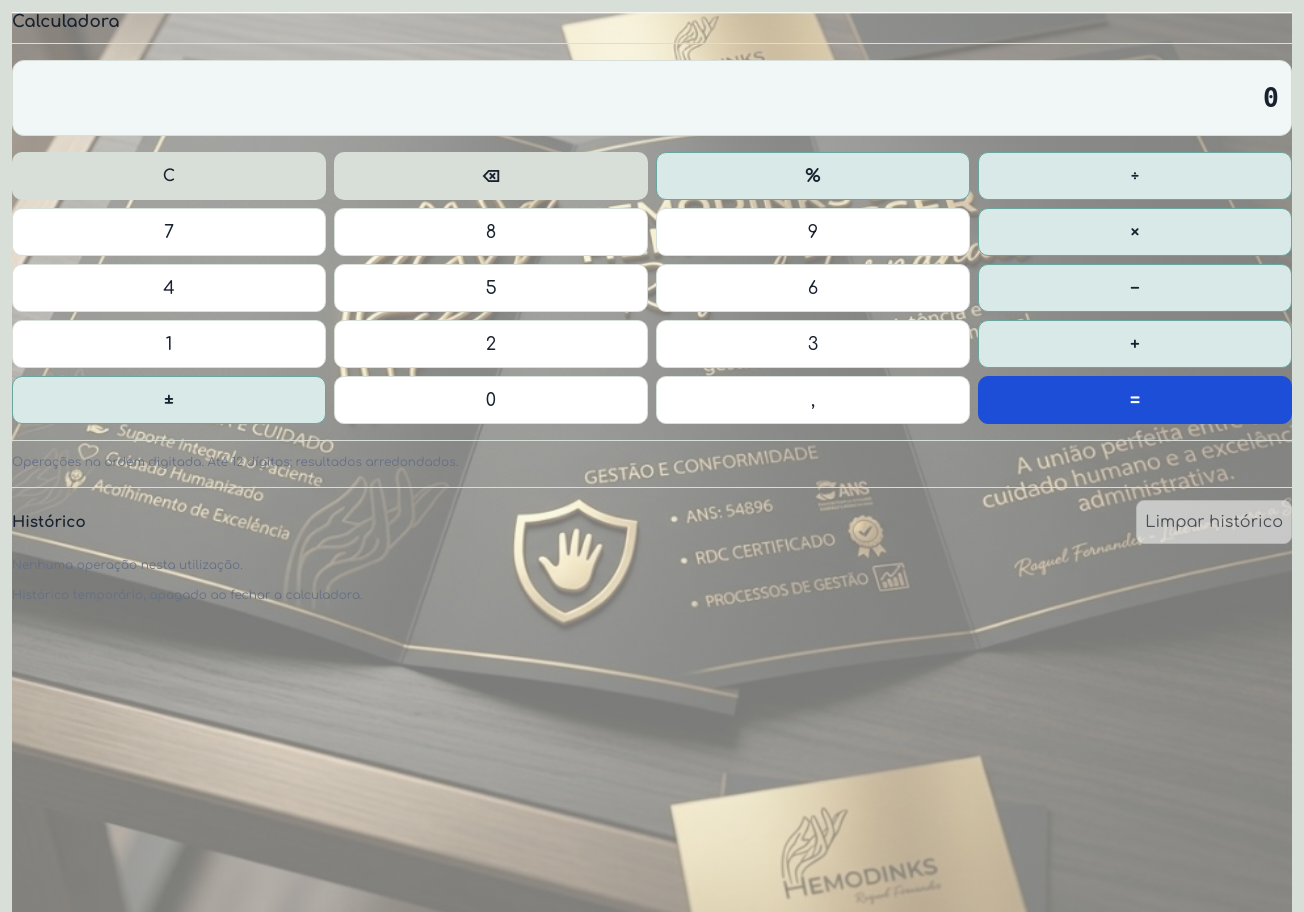
Scenario: painel da calculadora › calcula porcentagem por botão e teclado, sem repetir a conversão
Click the button named "Limpar" at (169, 176), box [12,152,326,200]
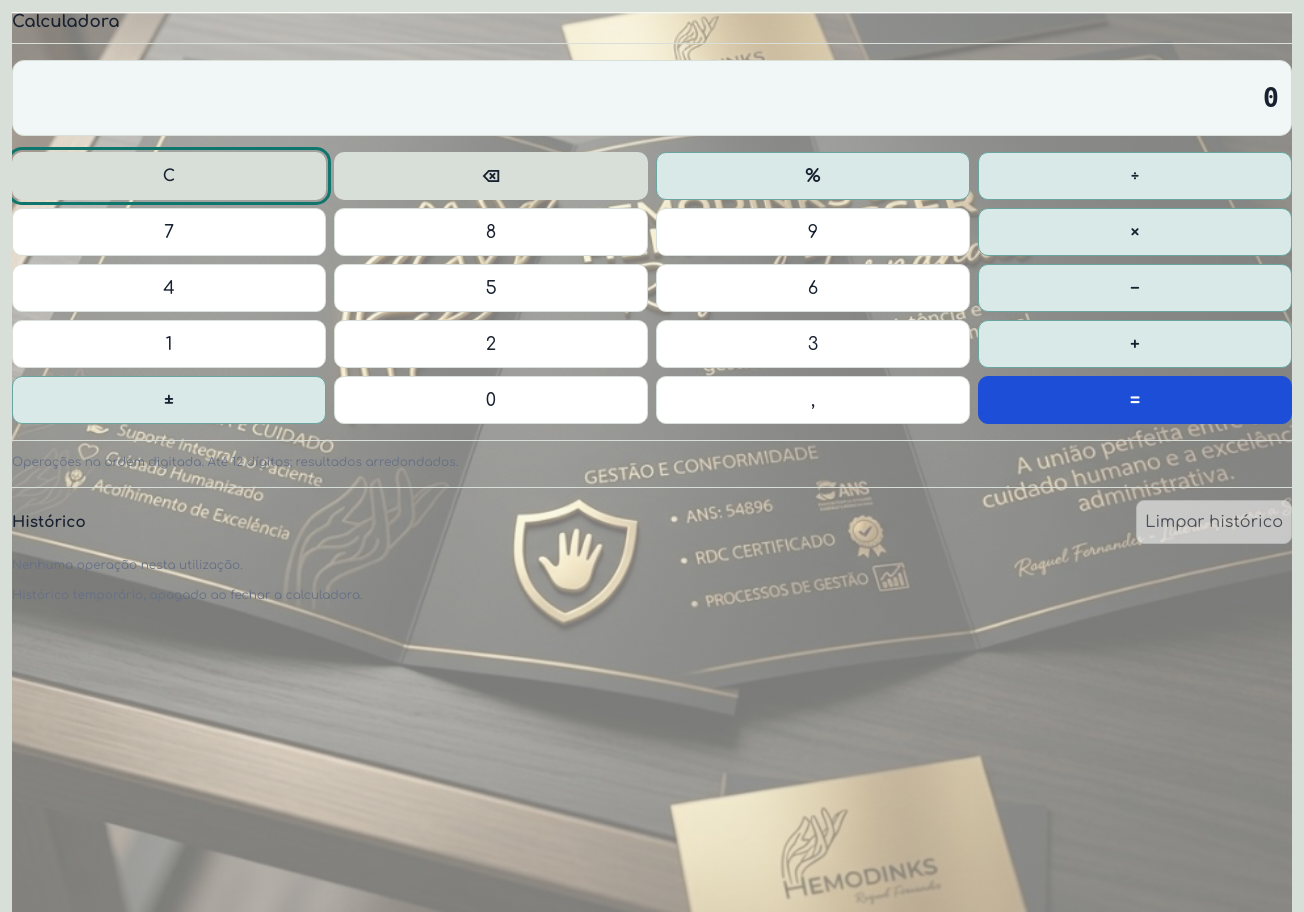
Type keys "200+10"
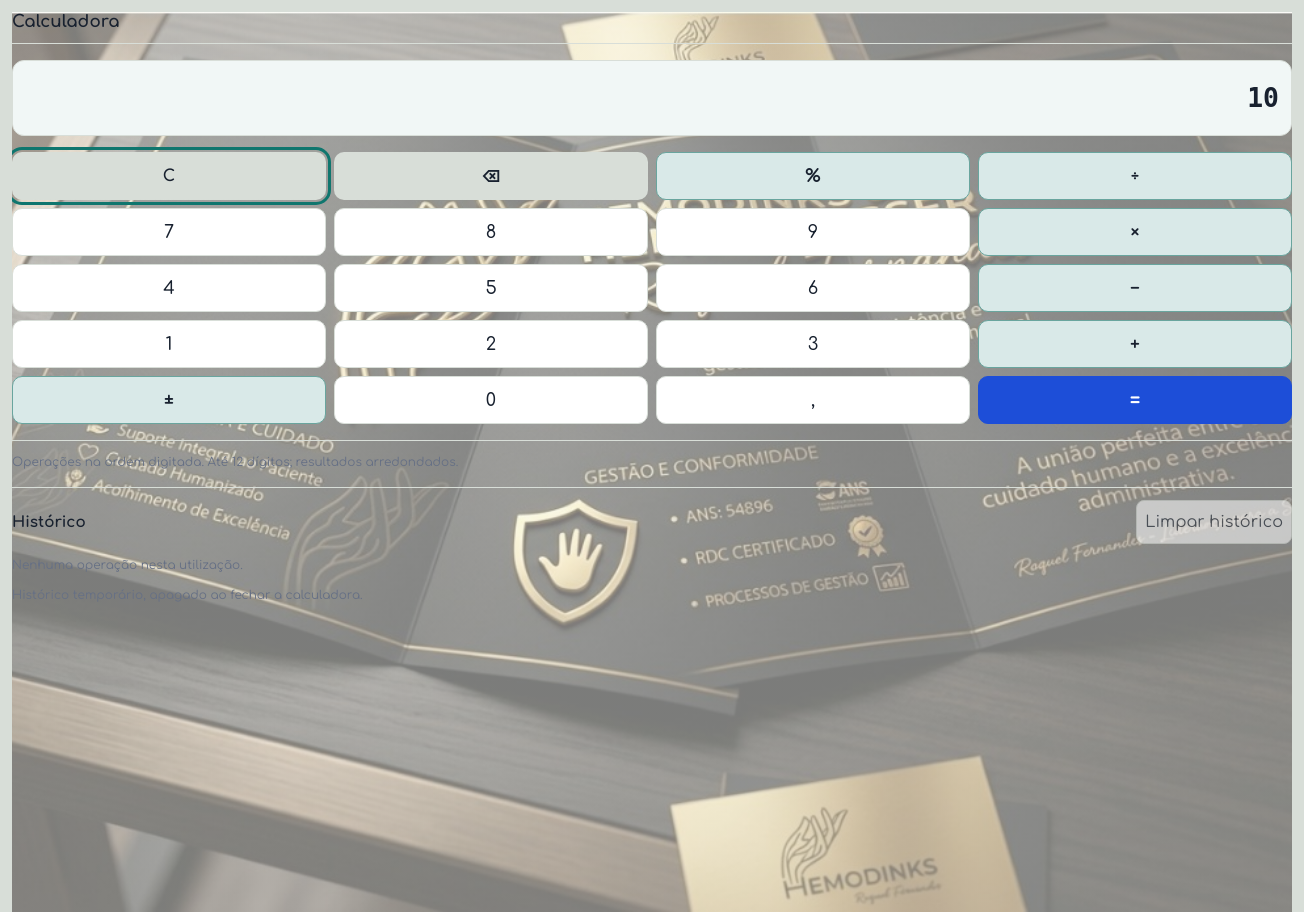
Click the button named "Porcentagem" at (813, 176), box [656,152,970,200]
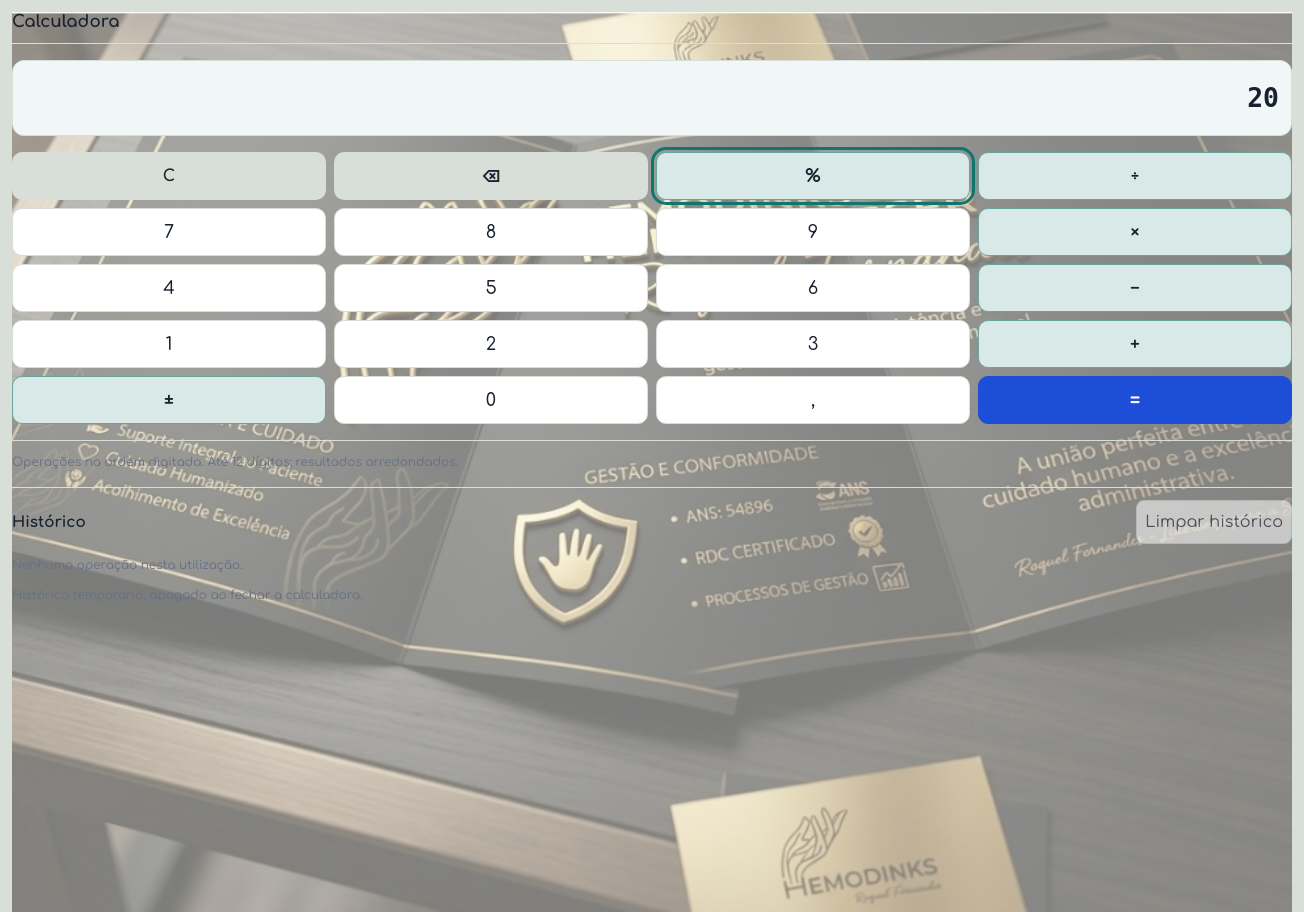
Type keys "%{Enter}"
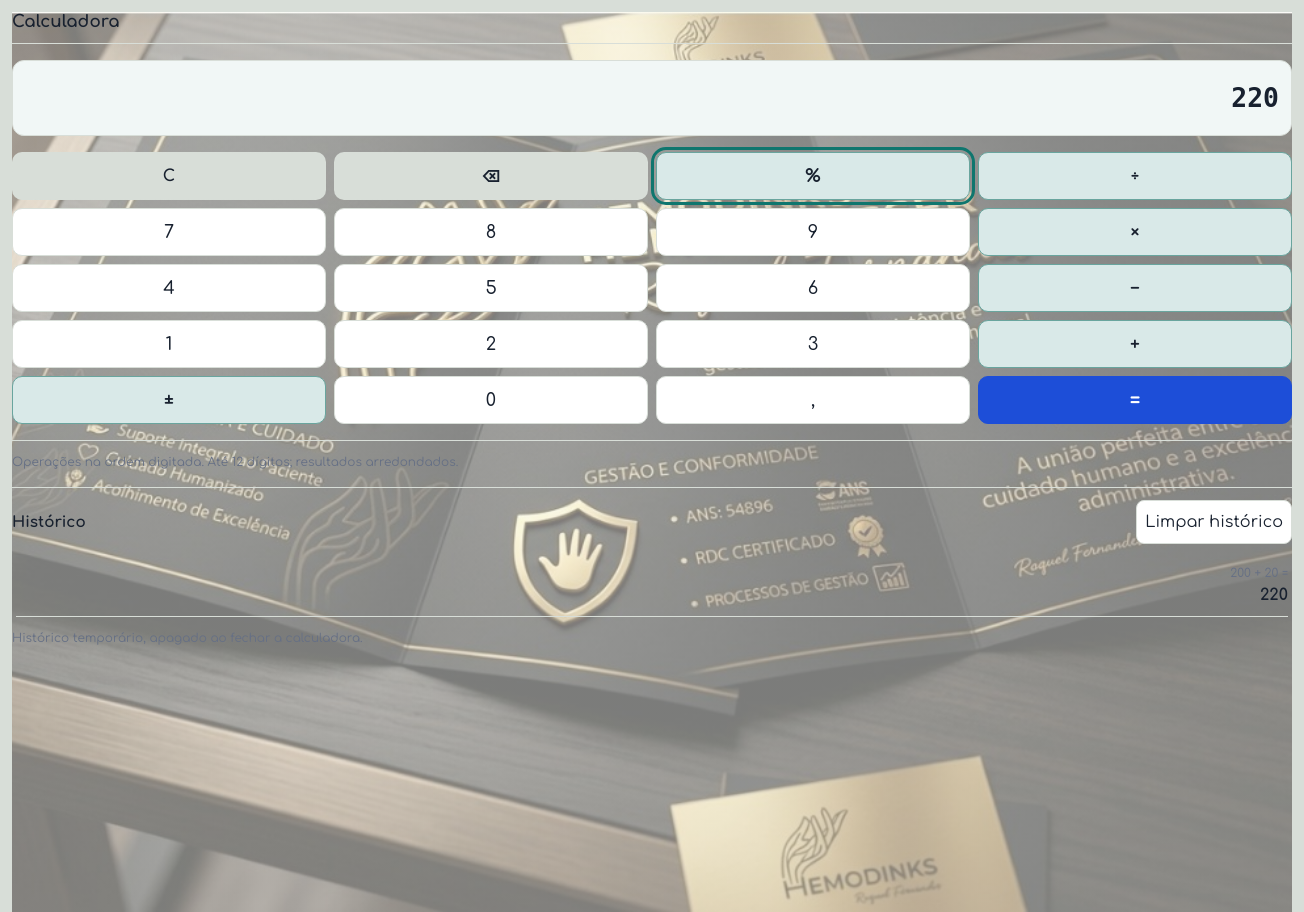
Check: the text named "Resultado da calculadora" reads "220", box [1231,82,1279,113]
Type keys "{Delete}10%"
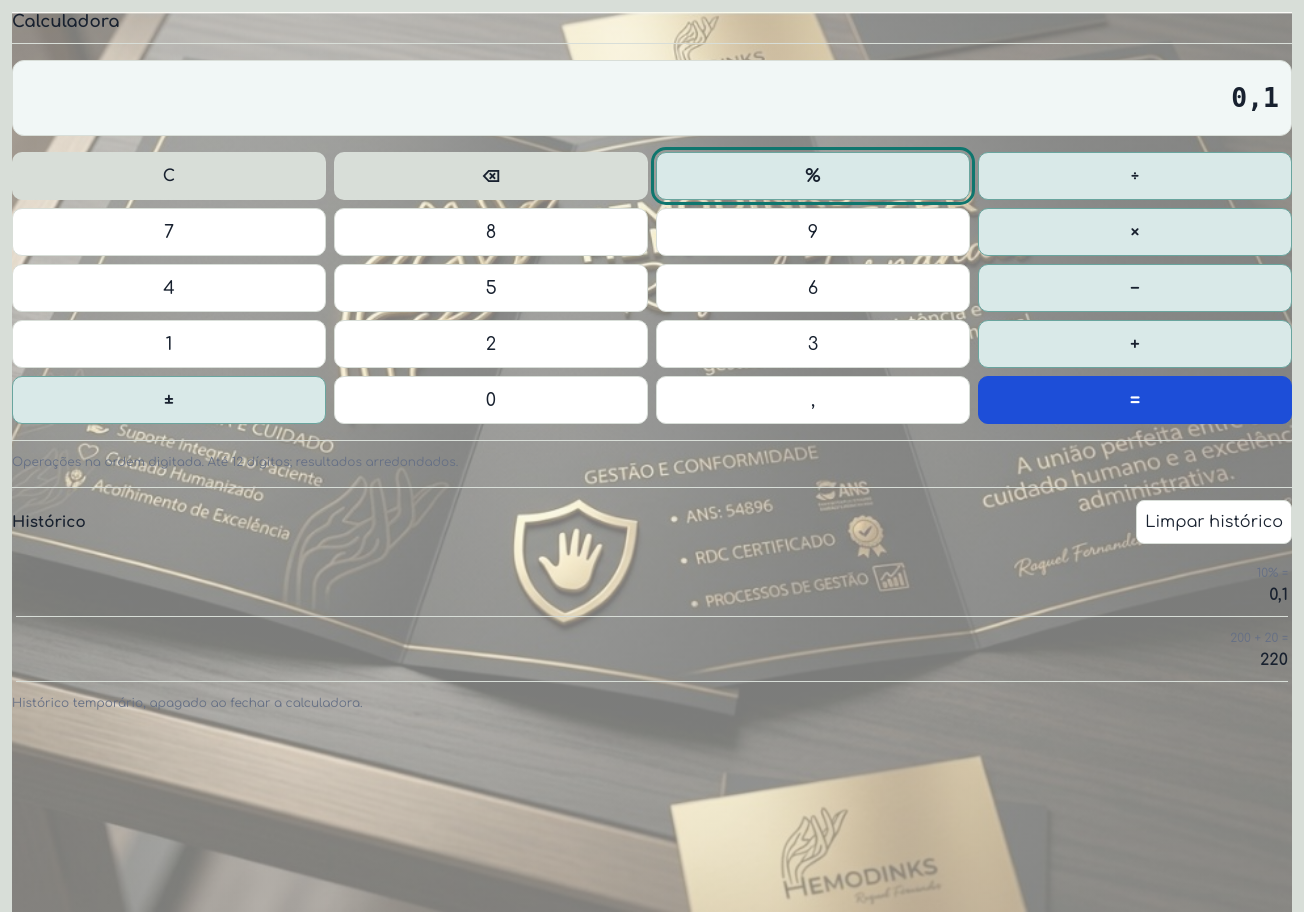
Check: the text named "Resultado da calculadora" reads "0,1", box [1231,82,1279,113]
Type keys "{Delete}200/10%{Enter}"
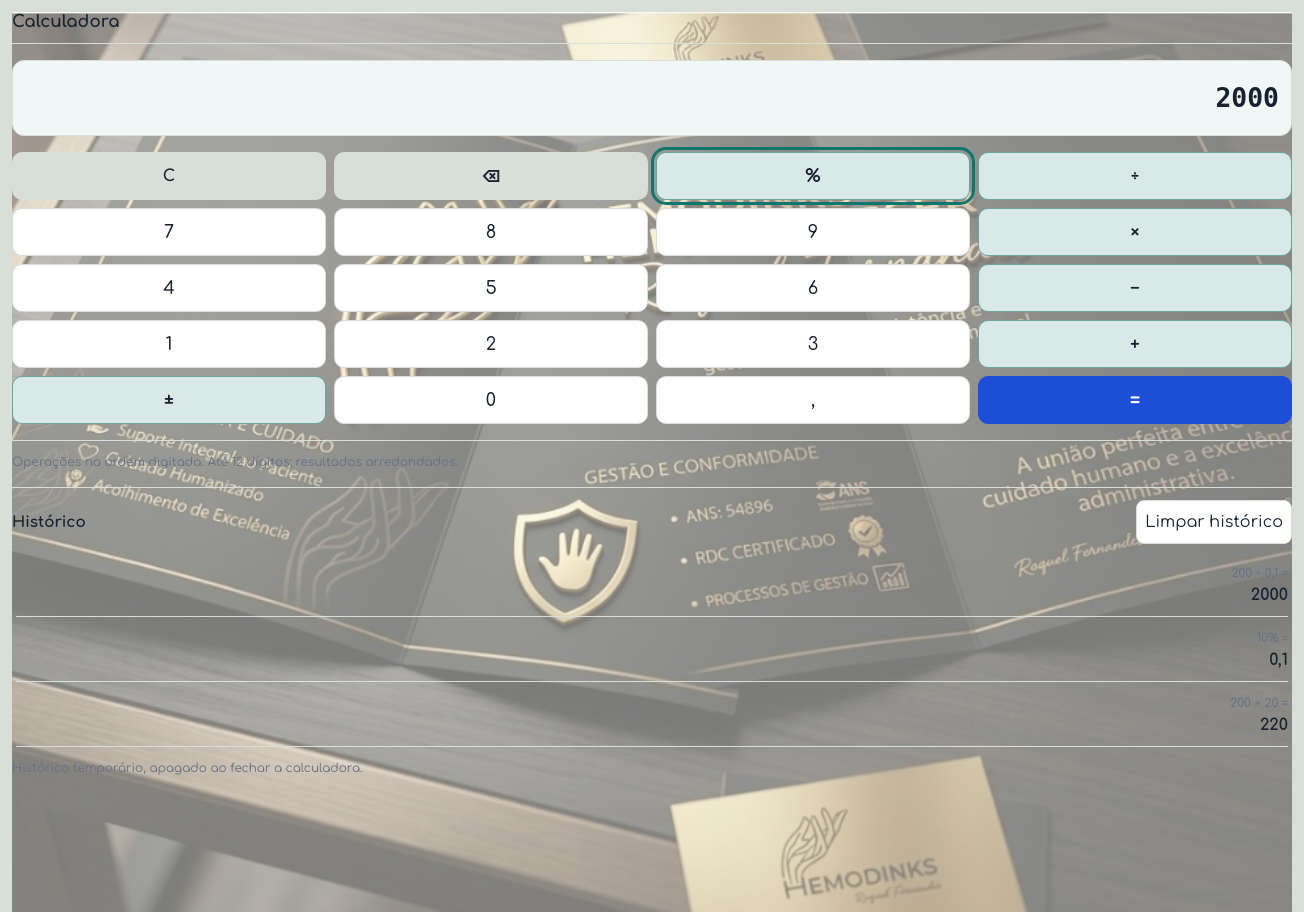
Check: the text named "Resultado da calculadora" reads "2000", box [1215,82,1279,113]
